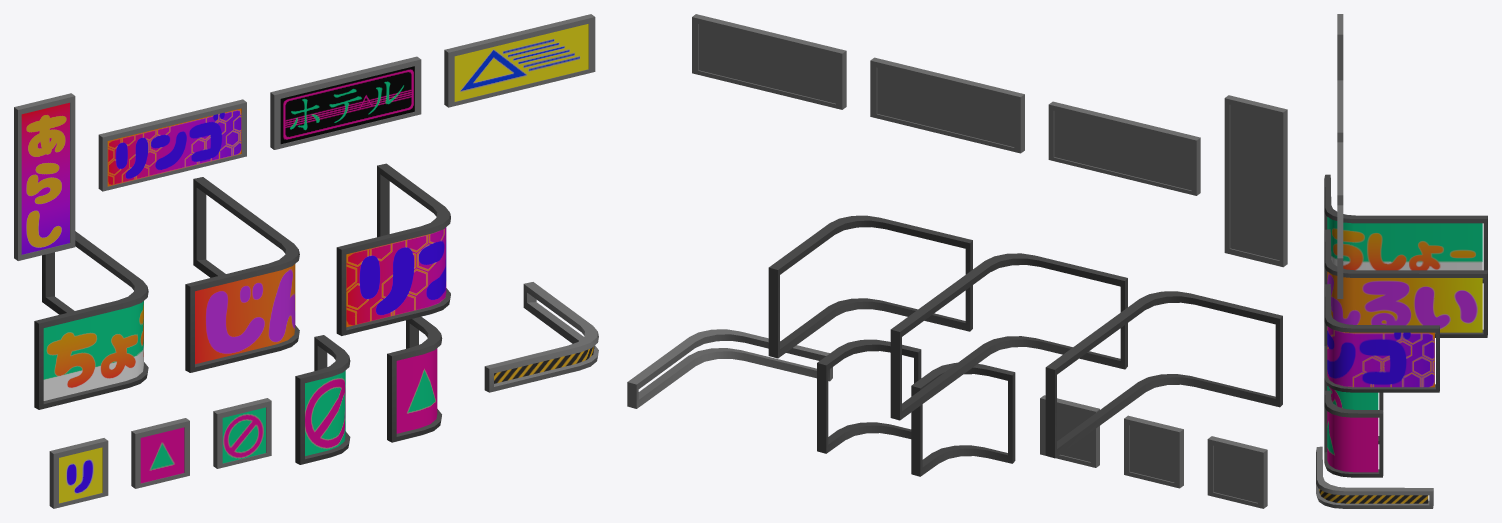
File: Cyberpunk Signs.glb
3 views of the same model, side by side, from view 1: azimuth 30°, elevation 25°; view 2: azimuth 150°, elevation 25°; view 3: azimuth 270°, elevation 25° (orthographic). The views are drawn at different scales.
Parts seen in each view (by area): view 1: Sign_Corner_2, Sign_Corner_3, Sign_Corner_1, Sign_4, Sign_2, Sign_1, Sign_3, Sign_Corner_Small2, Sign_Corner_Small1, Sign_Corner_Hazard, Sign_Small_3, Sign_Small_2 (+1 smaller); view 2: Sign_4, Sign_1, Sign_2, Sign_3, Sign_Corner_3, Sign_Corner_2, Sign_Corner_1, Sign_Corner_Hazard, Sign_Small_3, Sign_Small_2, Sign_Corner_Small2, Sign_Corner_Small1 (+1 smaller); view 3: Sign_Corner_2, Sign_Corner_3, Sign_Corner_1, Sign_Corner_Small1, Sign_Corner_Hazard, Sign_Corner_Small2, Sign_1, Sign_4, Sign_2, Sign_3.
Boxes of the visible parts, <box> form: Sign_Corner_2: <box>185,177,299,372</box>; Sign_Corner_3: <box>34,231,148,409</box>; Sign_Corner_1: <box>336,163,450,335</box>; Sign_4: <box>14,93,75,260</box>; Sign_2: <box>270,56,421,149</box>; Sign_1: <box>444,14,595,107</box>; Sign_3: <box>98,99,246,191</box>; Sign_Corner_Small2: <box>295,335,350,464</box>; Sign_Corner_Small1: <box>387,316,442,442</box>; Sign_Corner_Hazard: <box>484,282,598,392</box>; Sign_Small_3: <box>49,438,108,508</box>; Sign_Small_2: <box>131,418,189,488</box>; Sign_4: <box>1224,95,1287,267</box>; Sign_1: <box>692,14,846,109</box>; Sign_2: <box>870,57,1024,153</box>; Sign_3: <box>1048,101,1200,195</box>; Sign_Corner_3: <box>1045,291,1282,458</box>; Sign_Corner_2: <box>890,253,1127,420</box>; Sign_Corner_1: <box>768,215,972,358</box>; Sign_Corner_Hazard: <box>627,329,832,408</box>; Sign_Small_3: <box>1207,436,1267,508</box>; Sign_Small_2: <box>1124,415,1183,488</box>; Sign_Corner_Small2: <box>911,362,1015,476</box>; Sign_Corner_Small1: <box>817,339,921,453</box>; Sign_Corner_2: <box>1324,229,1487,337</box>; Sign_Corner_3: <box>1324,174,1487,283</box>; Sign_Corner_1: <box>1324,284,1439,392</box>; Sign_Corner_Small1: <box>1324,390,1383,477</box>; Sign_Corner_Hazard: <box>1316,446,1433,508</box>; Sign_Corner_Small2: <box>1324,378,1383,444</box>; Sign_1: <box>1337,205,1343,298</box>; Sign_4: <box>1337,14,1343,80</box>; Sign_2: <box>1337,142,1343,205</box>; Sign_3: <box>1337,80,1343,142</box>.
Size of the model in its own units: 5.11 by 3.5 by 1.77.
3 materials, 1 textured.
